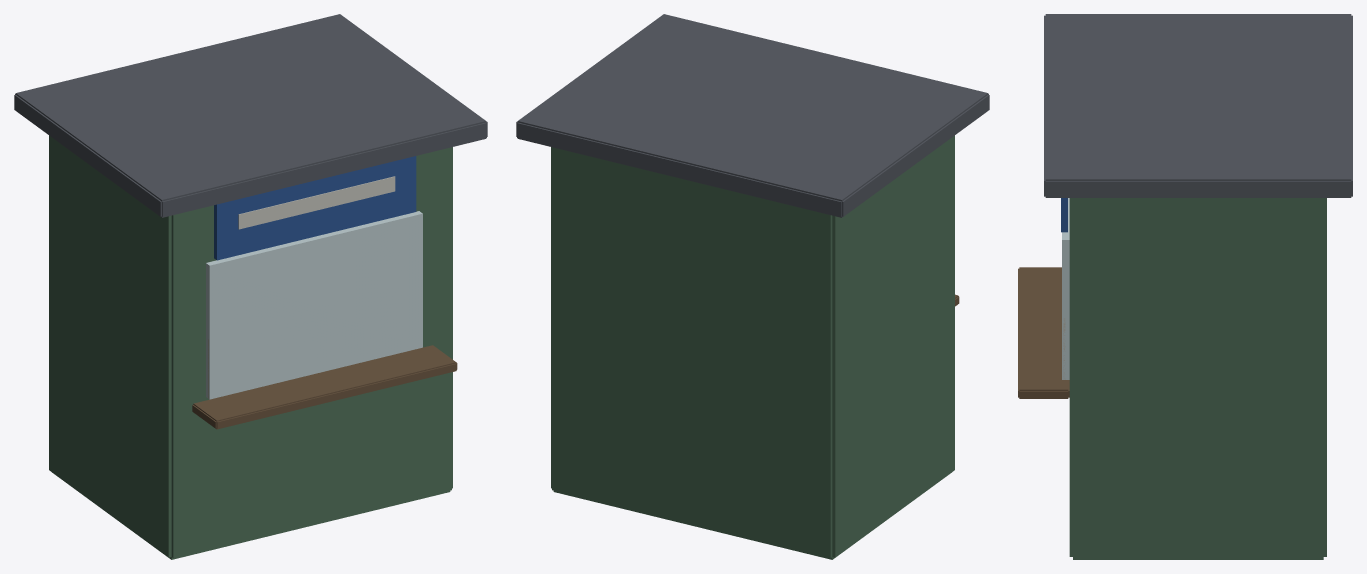
The model's file is kiosk.glb.
3 views of the same model, side by side, from view 1: azimuth 30°, elevation 25°; view 2: azimuth 150°, elevation 25°; view 3: azimuth 270°, elevation 25° (orthographic). The views are drawn at different scales.
Visible parts, largest first — view 1: kiosk_mesh; view 2: kiosk_mesh; view 3: kiosk_mesh.
Boxes of the visible parts, box(x1,y1,x2,y2) form: kiosk_mesh: box(14, 14, 487, 559); kiosk_mesh: box(516, 14, 989, 559); kiosk_mesh: box(1018, 14, 1352, 559).
Size of what is drawn, in the model's own units: 2.3 by 2.52 by 1.95.
